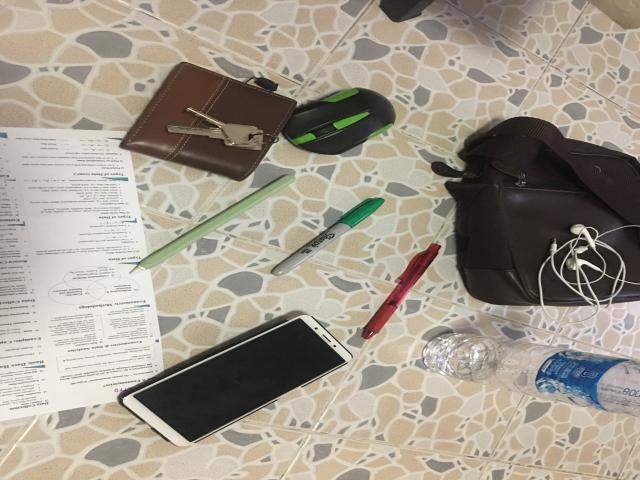Keys: (167, 108, 265, 150)
Mobile phone: (118, 314, 352, 446)
Mouse: (283, 88, 395, 155)
Pen: (272, 198, 385, 276), (362, 244, 440, 339)
Wallet: (120, 62, 297, 181)
bottle: (422, 333, 640, 416)
paper: (0, 128, 162, 420)
wire: (537, 224, 638, 323)
